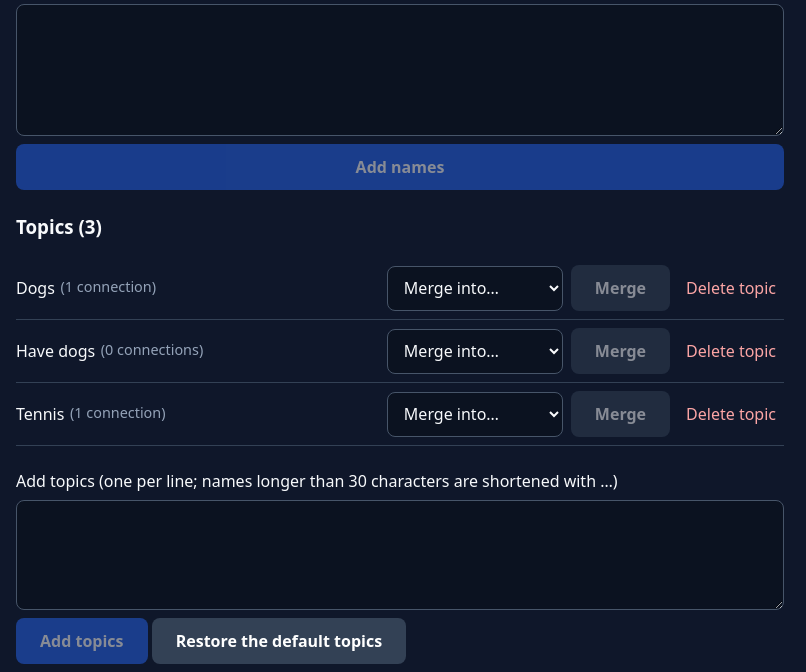
it: topics › deletes a topic only after confirming, and says how many connections go with it
(page scrolled)
Check: the text "Dogs" is shown, box [16,277,55,299]
Click the button with aria-label "Delete topic Dogs": click(731, 288) [678,266,784,310]
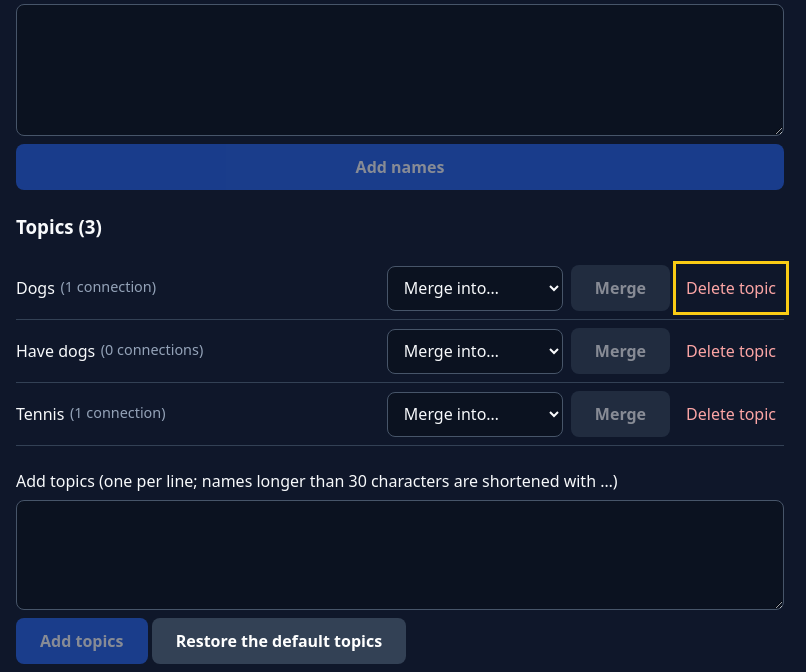
Click the button with aria-label "Delete topic Dogs": click(731, 288) [678,266,784,310]
(page scrolled)
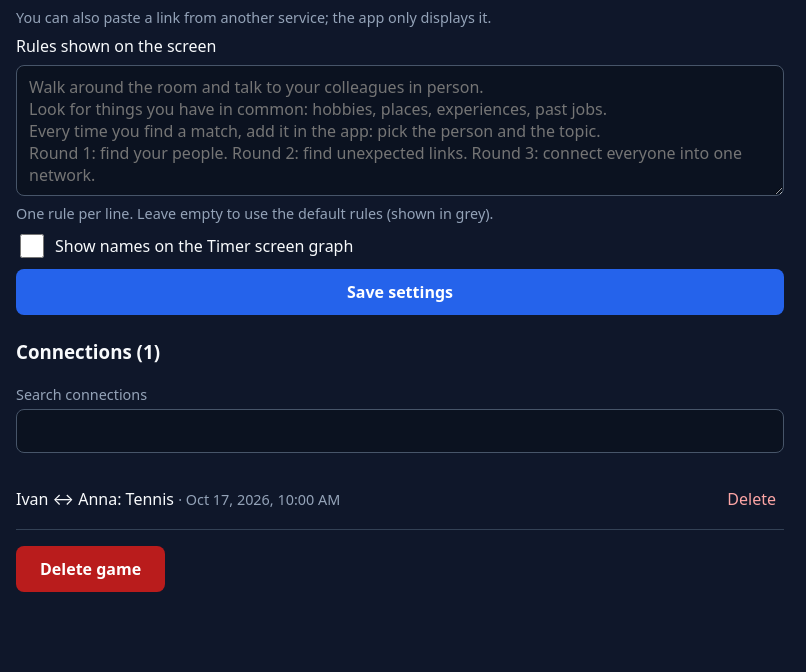
Check: the button "Delete topic Dogs" is gone
Check: the heading "Connections (1)" is shown, box [16,339,160,364]
